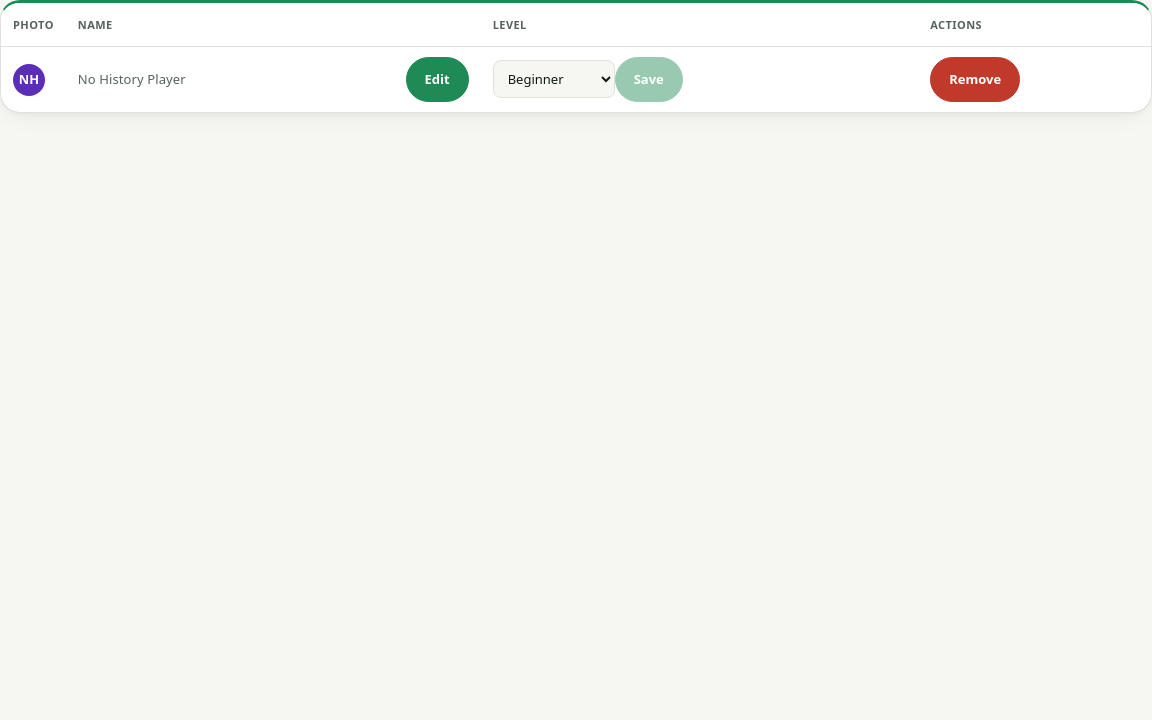
Test case: PlayerList remove member › closes the dialog without removing when Cancel is clicked
The width and height of the screenshot is (1152, 720).
Click the button "Remove" at (975, 80), box x1=930 y1=57 x2=1020 y2=102
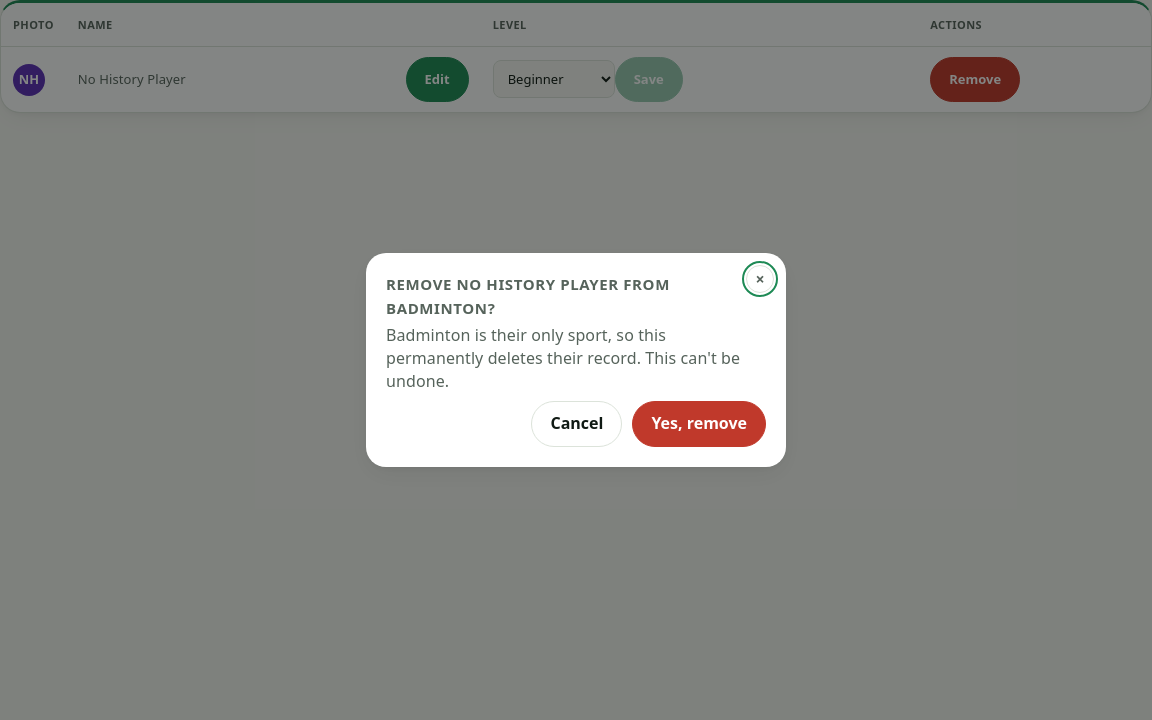
Click the button "Cancel" at (577, 424), box x1=532 y1=401 x2=622 y2=447
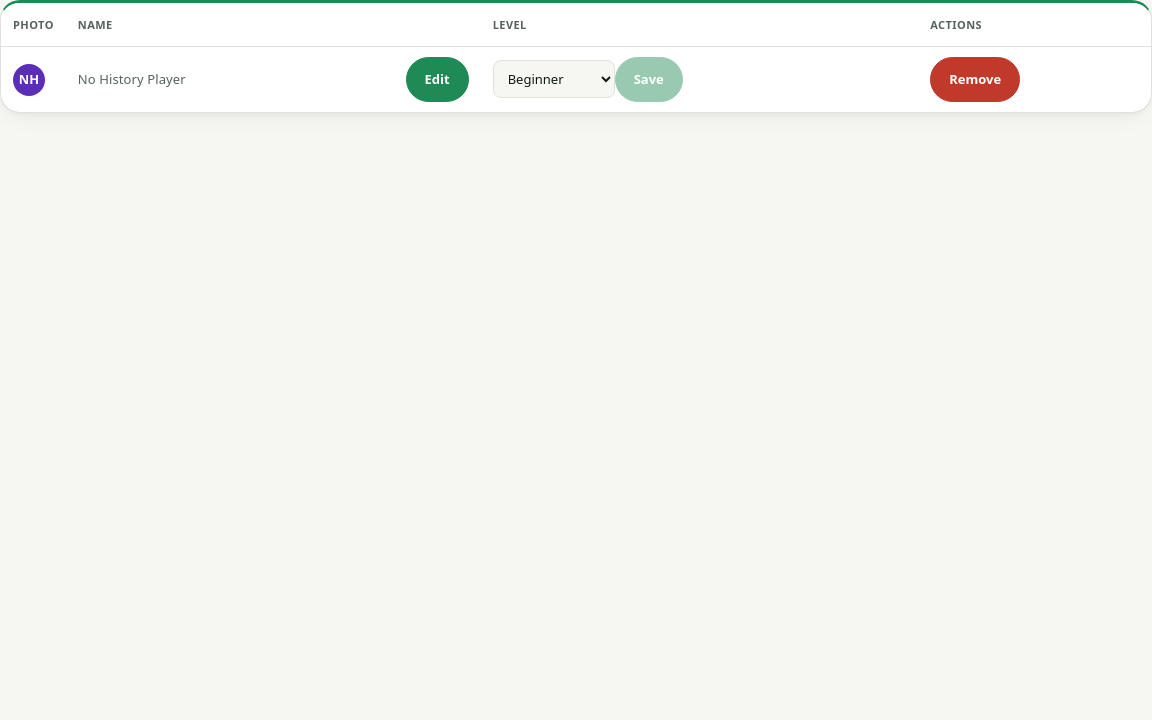
Expected: the text "permanently deletes their record" is gone
